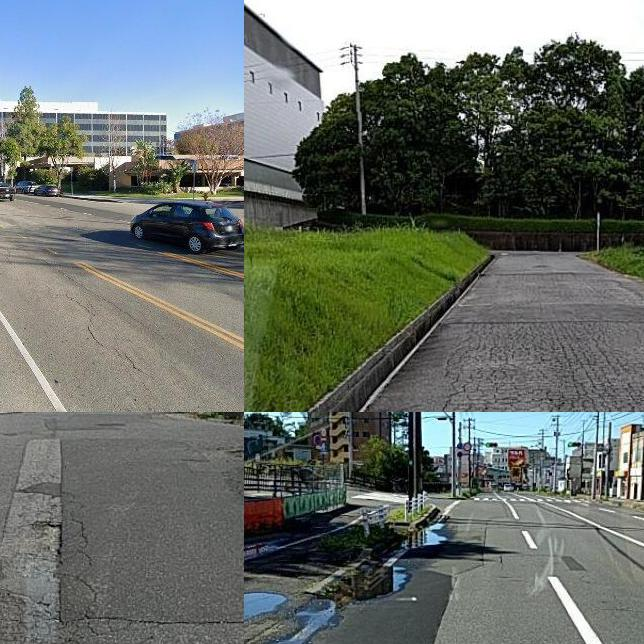Sambungan: (52, 435, 244, 634)
